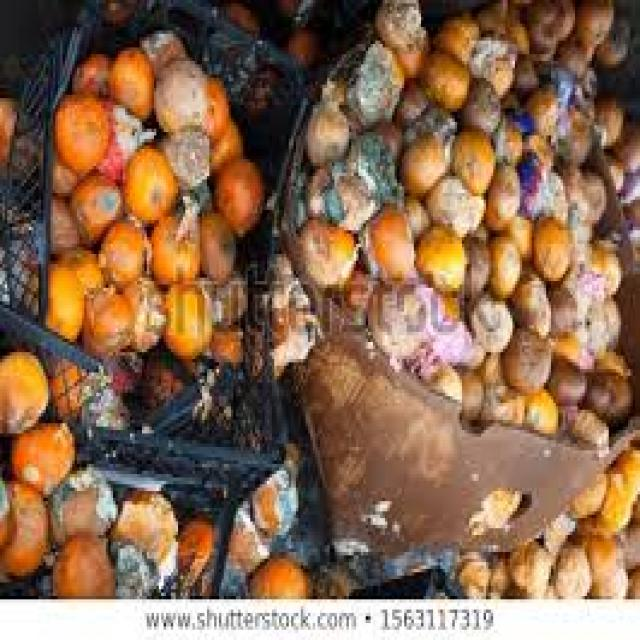organic waste: (108, 484, 174, 593), (368, 278, 443, 366), (267, 247, 320, 369), (149, 352, 236, 423), (388, 112, 458, 193), (575, 444, 638, 532), (94, 92, 159, 176), (301, 156, 375, 227), (344, 122, 402, 203), (344, 41, 399, 125), (48, 464, 113, 535), (7, 420, 72, 491), (294, 217, 358, 288), (53, 95, 111, 173), (359, 200, 416, 278), (0, 481, 48, 572), (120, 142, 176, 220), (67, 166, 123, 244), (570, 508, 623, 589), (210, 152, 262, 227), (152, 54, 204, 129), (397, 332, 460, 393), (560, 220, 602, 308), (146, 213, 200, 281), (48, 535, 111, 593), (248, 457, 296, 532), (0, 348, 43, 430), (221, 501, 265, 579), (96, 217, 149, 281), (421, 170, 484, 223), (104, 44, 152, 112), (414, 220, 464, 285), (80, 372, 132, 433), (501, 322, 548, 389), (448, 118, 496, 183), (303, 101, 354, 162), (515, 0, 575, 51), (462, 34, 515, 91), (156, 129, 210, 183), (173, 515, 212, 589), (577, 369, 633, 420), (530, 210, 570, 281), (46, 258, 82, 336), (474, 0, 529, 51), (474, 159, 517, 224), (418, 47, 466, 105), (508, 264, 548, 332), (243, 552, 308, 593), (337, 264, 378, 329), (561, 159, 604, 220), (469, 288, 510, 349), (132, 346, 178, 400), (431, 7, 478, 58), (197, 207, 229, 281), (428, 318, 481, 362), (454, 71, 496, 125), (137, 24, 185, 71), (373, 0, 421, 47), (505, 535, 546, 589), (587, 7, 630, 58), (551, 532, 589, 589), (46, 356, 82, 416), (496, 51, 536, 105), (486, 227, 517, 294), (441, 548, 488, 592), (520, 78, 556, 135), (544, 349, 587, 396), (204, 267, 246, 315), (205, 115, 238, 176), (532, 162, 568, 216), (392, 24, 428, 78), (467, 488, 524, 522), (46, 193, 79, 251), (563, 403, 606, 447), (587, 230, 618, 291), (457, 227, 486, 291), (572, 0, 611, 47), (551, 108, 589, 156), (173, 183, 214, 227), (561, 471, 606, 511), (70, 48, 110, 92), (582, 146, 621, 190), (94, 352, 144, 386), (520, 383, 556, 430), (478, 383, 520, 423), (587, 88, 618, 142), (202, 71, 226, 139), (310, 555, 349, 596), (279, 20, 320, 58), (488, 109, 518, 160), (539, 511, 575, 552), (376, 115, 412, 156), (575, 302, 604, 352), (455, 362, 481, 417), (0, 91, 17, 173), (611, 115, 638, 166), (546, 328, 582, 366), (517, 152, 539, 214), (500, 213, 532, 254), (616, 234, 638, 291), (70, 244, 101, 284), (546, 281, 573, 325), (320, 71, 351, 108), (484, 548, 510, 592), (608, 196, 638, 234), (205, 322, 238, 356), (402, 196, 431, 234), (390, 78, 426, 108), (48, 156, 77, 193), (616, 521, 638, 569), (431, 281, 462, 315), (517, 132, 551, 163), (0, 471, 12, 552), (219, 0, 255, 27), (590, 342, 626, 369), (599, 291, 618, 342), (570, 61, 594, 98), (96, 0, 139, 20), (479, 348, 500, 382), (611, 169, 638, 193), (620, 302, 638, 336), (623, 566, 638, 592), (281, 440, 296, 461)
